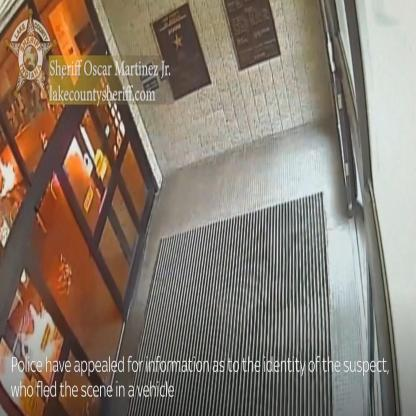fire: (0, 302, 55, 401), (0, 155, 16, 197), (58, 252, 72, 294)
